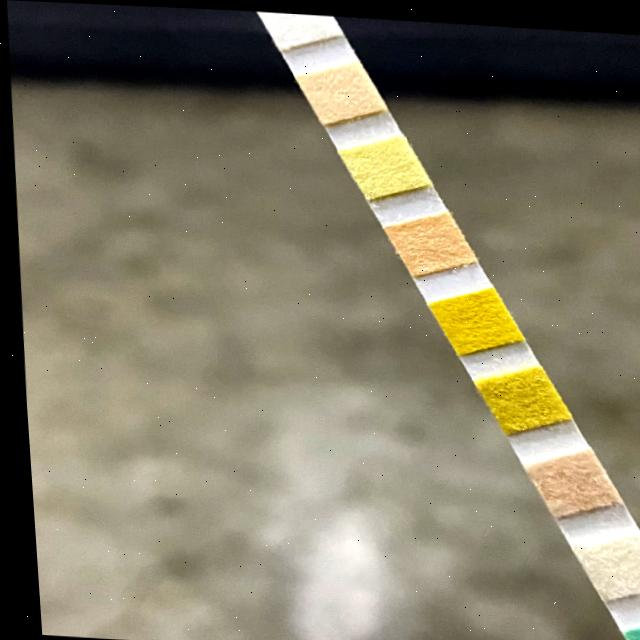Bilirubin: (582, 535, 640, 580)
Blood: (444, 294, 500, 337)
Glucose: (632, 622, 640, 640)
Ketone: (536, 453, 593, 498)
Nitrite: (267, 9, 322, 35)
Protein: (354, 142, 410, 185)
SpGravity: (488, 372, 548, 417)
Urobilinogen: (311, 65, 368, 108)
pH: (398, 216, 454, 258)
